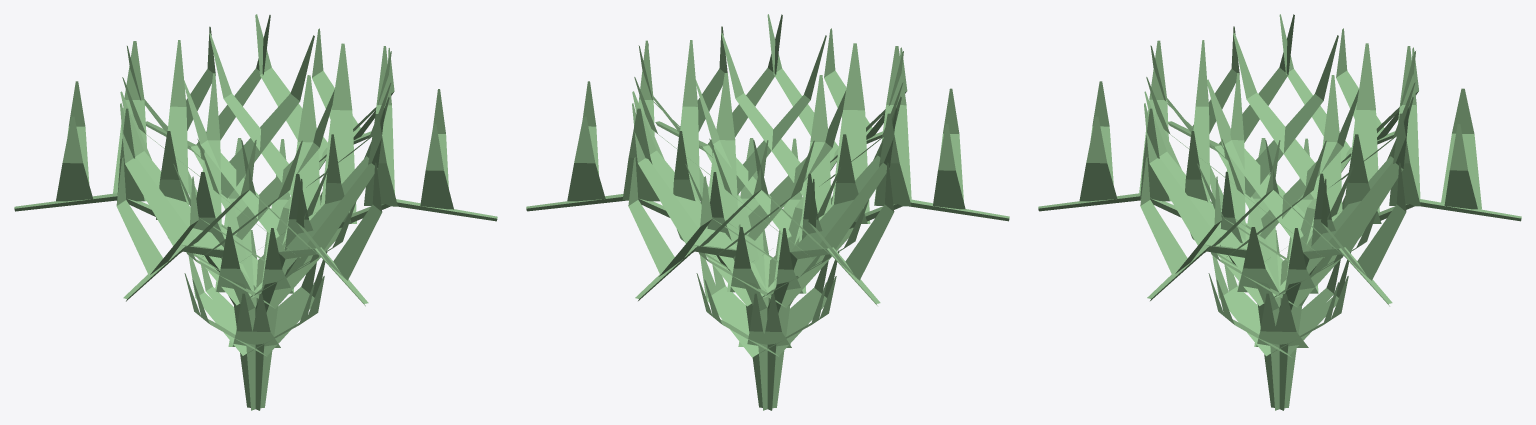
The model's file is nature_fern_clump.glb.
3 renders of one model, left to right at view 1: azimuth 30°, elevation 25°; view 2: azimuth 150°, elevation 25°; view 3: azimuth 270°, elevation 25°, orthographic.
Parts seen in each view (by area): view 1: world; view 2: world; view 3: world.
Part boxes in pixels (x1,y1,x2,y2): world: (14,14,497,410); world: (526,14,1009,410); world: (1038,14,1521,410).
Size of the model in its own units: 1.79 by 1.51 by 2.
